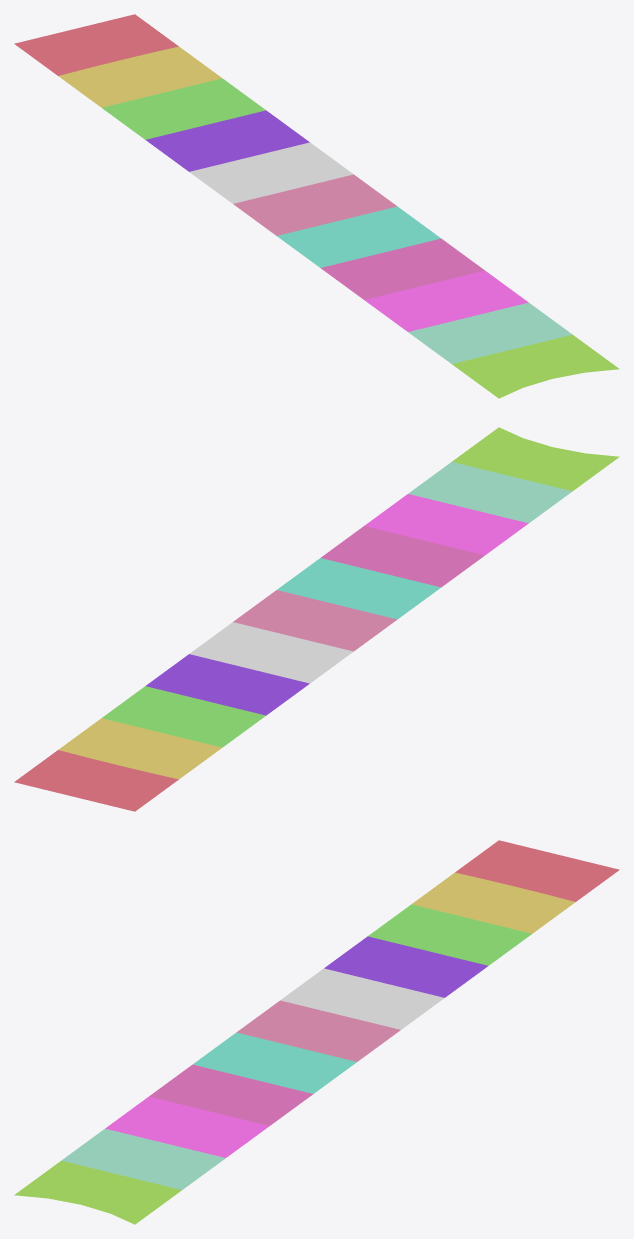
The model's file is Final_platform.fbx.
3 renders of one model, top to bottom at view 1: azimuth 30°, elevation 25°; view 2: azimuth 150°, elevation 25°; view 3: azimuth 330°, elevation 25°, orthographic.
Parts seen in each view (by area): view 1: Final_platform; view 2: Final_platform; view 3: Final_platform.
Part boxes in pixels (x1,y1,x2,y2): Final_platform: (14, 14, 619, 398); Final_platform: (14, 427, 619, 811); Final_platform: (14, 840, 619, 1224).
Size of the model in its own units: 1462 by 0.00165 by 10143.
